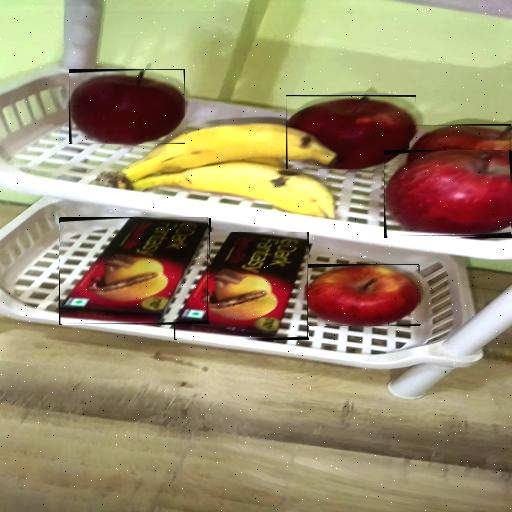Apple: (385, 150, 511, 236), (287, 96, 416, 169), (69, 70, 185, 144), (305, 265, 419, 325), (409, 126, 511, 159)
Choco Fills: (60, 217, 208, 324), (175, 233, 308, 339)
